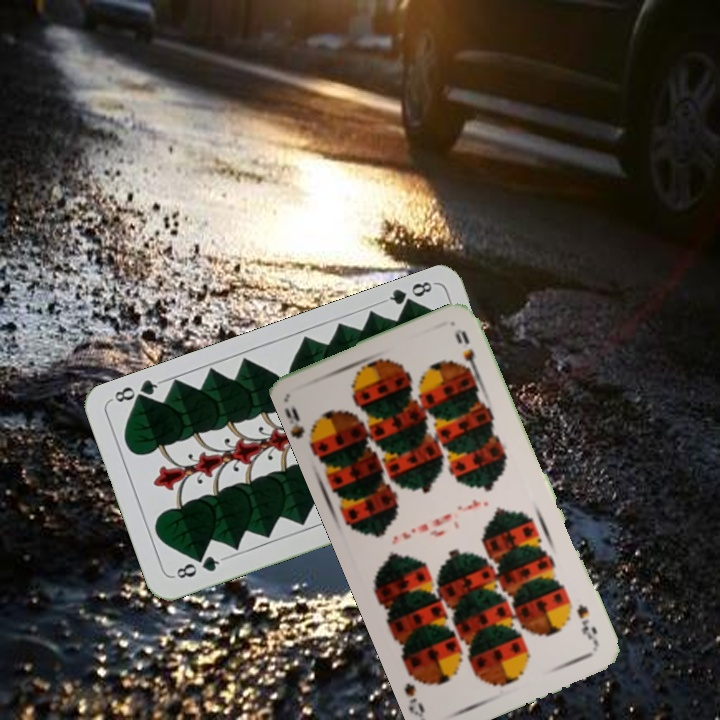G8: (379, 275, 437, 313), (169, 552, 227, 582)
S9: (282, 402, 324, 452), (572, 600, 601, 648)
